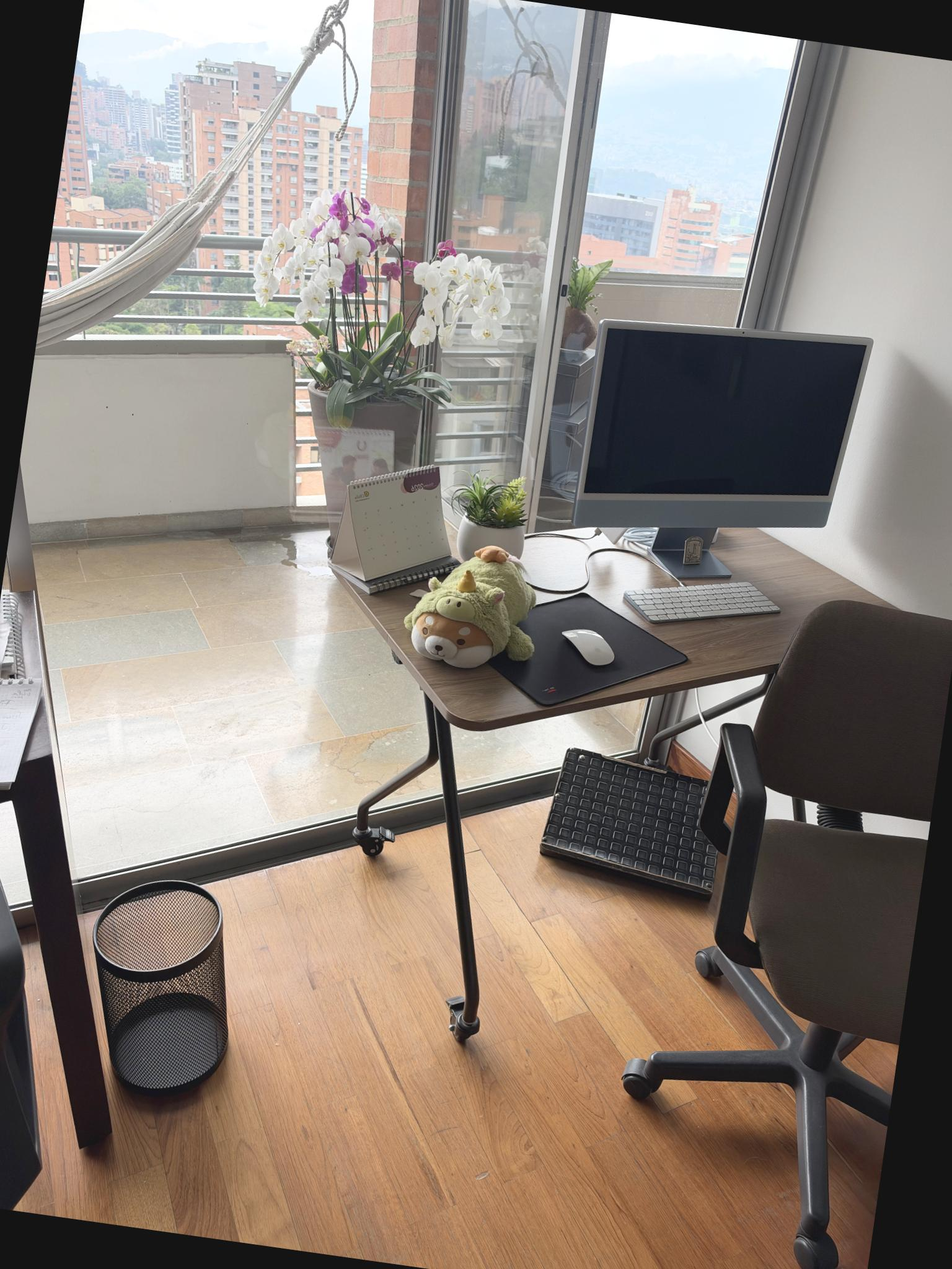peluche_martin: (398, 534, 550, 680)
